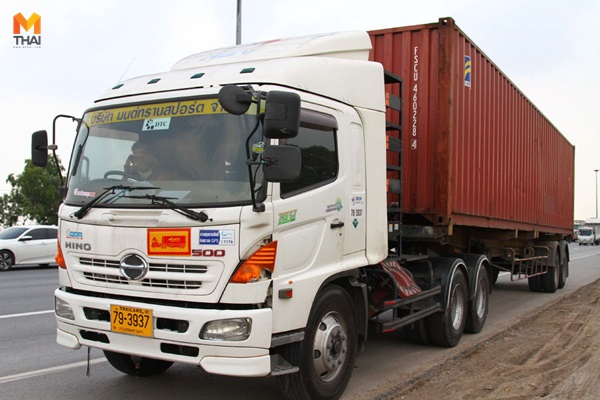truck: (50, 27, 528, 397)
